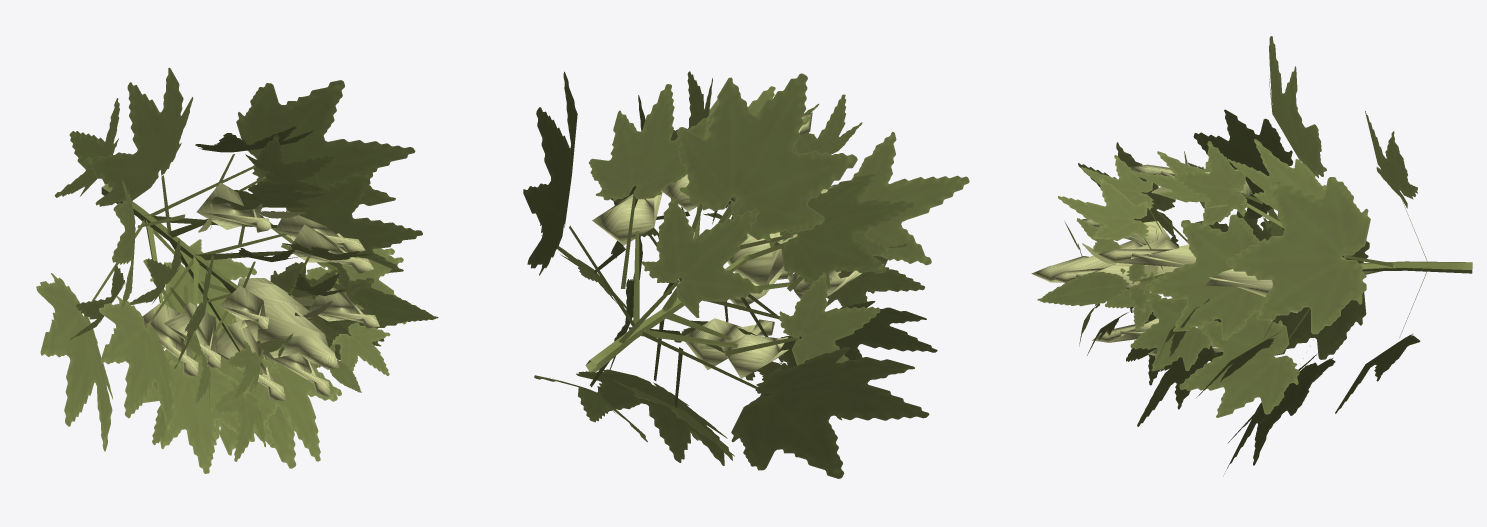
The model's file is p_frosty_kush_flowering_c1_cards.obj.
3 views of the same model, side by side, from view 1: azimuth 30°, elevation 25°; view 2: azimuth 150°, elevation 25°; view 3: azimuth 270°, elevation 25° (orthographic). The views are drawn at different scales.
Size of the model in its own units: 1.46 by 1.5 by 1.33.
1 material, 1 textured.
